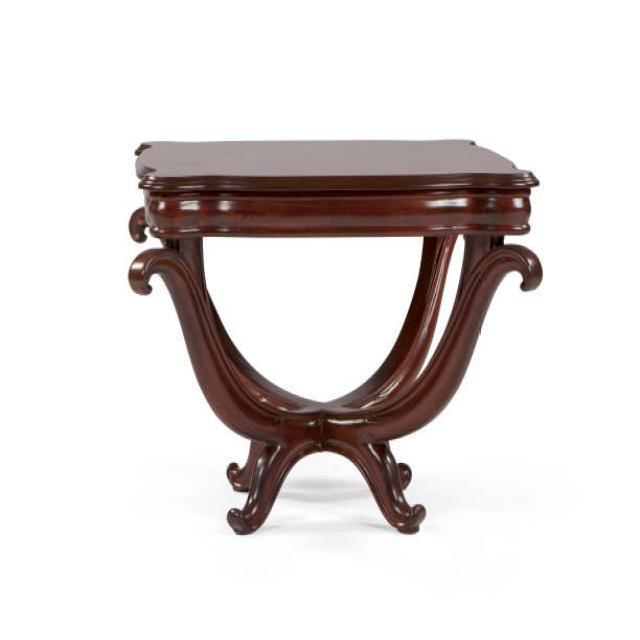table: (127, 137, 542, 536)
